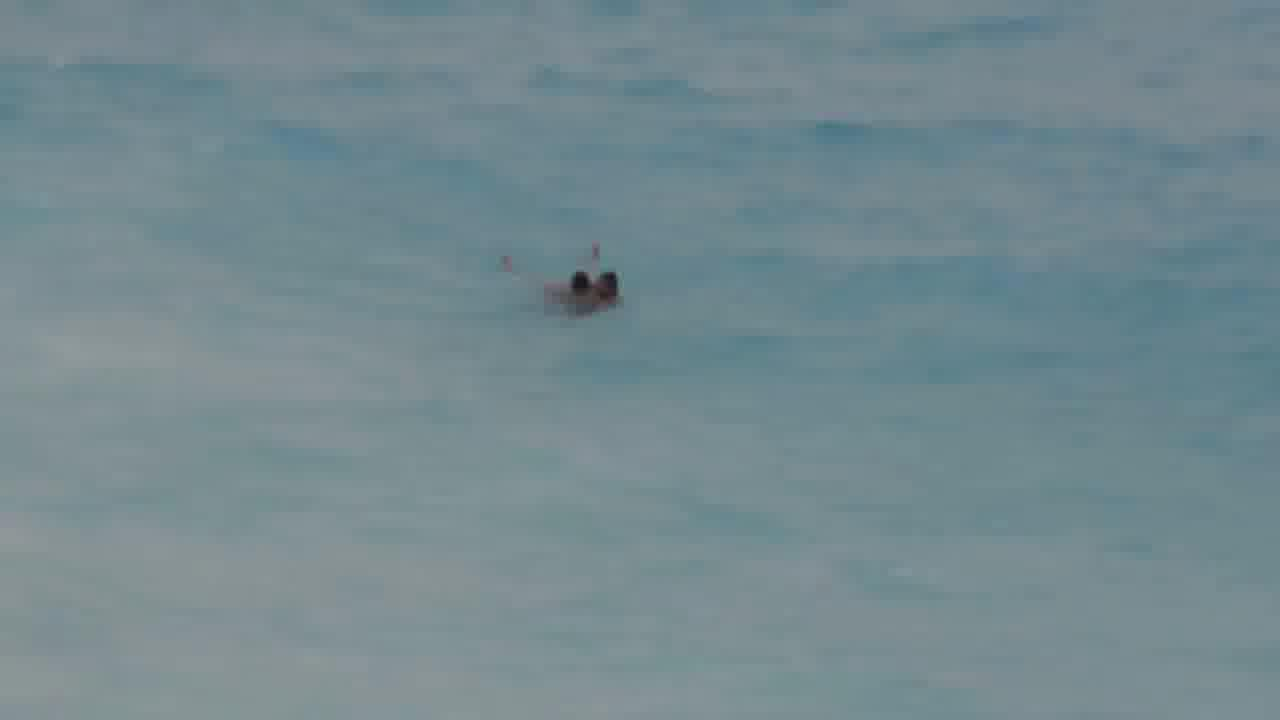human: (489, 248, 591, 316), (585, 236, 635, 314)
